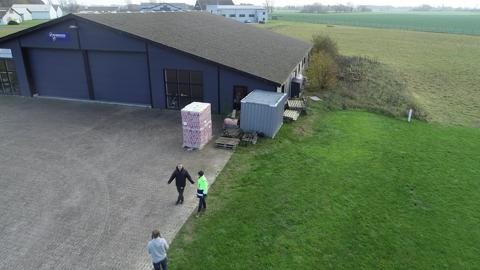RockwoolPallet: (180, 100, 214, 149)
